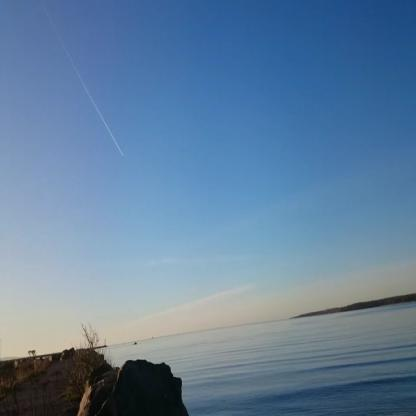CIV_Plane: (118, 148, 126, 158)
